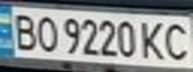0: (115, 17, 139, 60)
2: (96, 16, 121, 57), (78, 15, 100, 57)
9: (57, 13, 84, 55)
B: (6, 10, 39, 52)
C: (160, 19, 193, 63)
K: (136, 18, 169, 61)
O: (33, 12, 60, 53)
